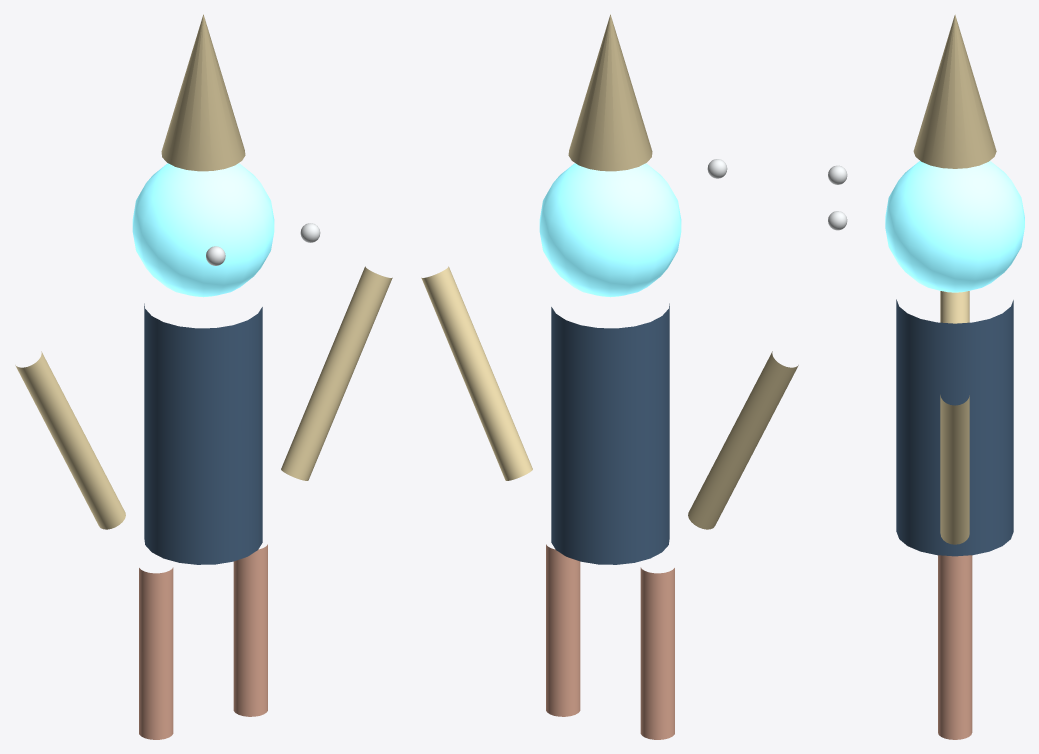
The model's file is spark-runner-mascot.glb.
The picture shows the model from 3 angles, left to right: view 1: azimuth 30°, elevation 25°; view 2: azimuth 150°, elevation 25°; view 3: azimuth 270°, elevation 25°; orthographic projection.
Visible parts, largest first — view 1: spark-runner-mascot-body, spark-runner-mascot-head, spark-runner-mascot-signal-cap, spark-runner-mascot-right-arm, spark-runner-mascot-left-leg, spark-runner-mascot-right-leg, spark-runner-mascot-left-arm; view 2: spark-runner-mascot-body, spark-runner-mascot-head, spark-runner-mascot-signal-cap, spark-runner-mascot-right-arm, spark-runner-mascot-left-leg, spark-runner-mascot-right-leg, spark-runner-mascot-left-arm; view 3: spark-runner-mascot-body, spark-runner-mascot-head, spark-runner-mascot-signal-cap, spark-runner-mascot-right-leg, spark-runner-mascot-right-arm, spark-runner-mascot-left-arm, spark-runner-mascot-left-leg.
Boxes of the visible parts, x1,y1,x2,y2 form: spark-runner-mascot-body: (144,303,262,564); spark-runner-mascot-head: (132,163,274,297); spark-runner-mascot-signal-cap: (161,14,245,171); spark-runner-mascot-right-arm: (281,266,392,480); spark-runner-mascot-left-leg: (139,567,173,739); spark-runner-mascot-right-leg: (233,544,267,716); spark-runner-mascot-left-arm: (15,351,125,529); spark-runner-mascot-body: (551,303,669,564); spark-runner-mascot-head: (539,163,681,297); spark-runner-mascot-signal-cap: (568,14,652,171); spark-runner-mascot-right-arm: (421,266,532,480); spark-runner-mascot-left-leg: (640,567,674,739); spark-runner-mascot-right-leg: (546,544,580,716); spark-runner-mascot-left-arm: (688,351,798,529); spark-runner-mascot-body: (896,299,1013,556); spark-runner-mascot-head: (885,161,1024,292); spark-runner-mascot-signal-cap: (913,14,996,168); spark-runner-mascot-right-leg: (938,569,972,739); spark-runner-mascot-right-arm: (940,395,969,544); spark-runner-mascot-left-arm: (940,291,969,323); spark-runner-mascot-left-leg: (938,555,972,575).
Bounding box in the file's own units: 1.74 × 3.14 × 0.805.
